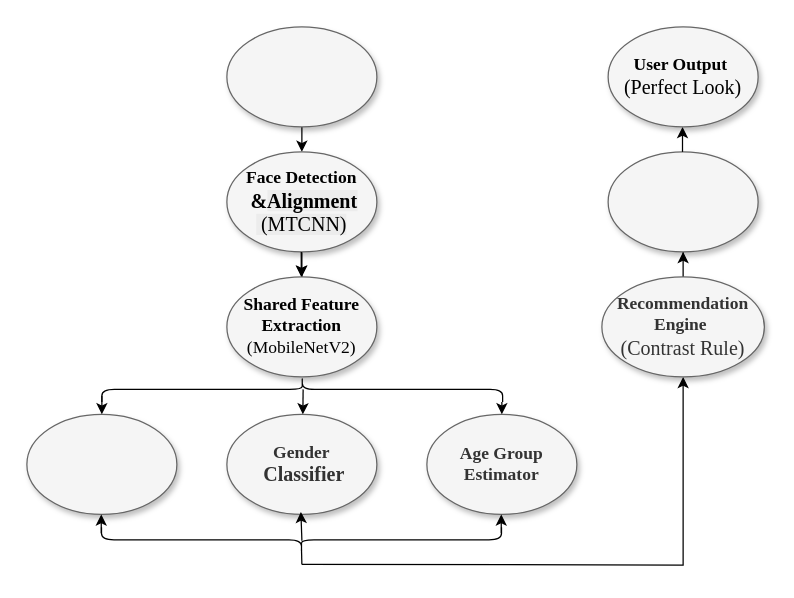
Some shapes in this 794 by 598 pixel diagram are drawn without their labels. The shapes that lost their labels are listed below. From the top down, each one's centre as x and y in pixels, then its label:
the point at 302,78: Input Image (Capture/Upload)
the point at 684,203: AR Virtual Try-On (3D Fitting)
the point at 102,465: Face Shape Classifier
